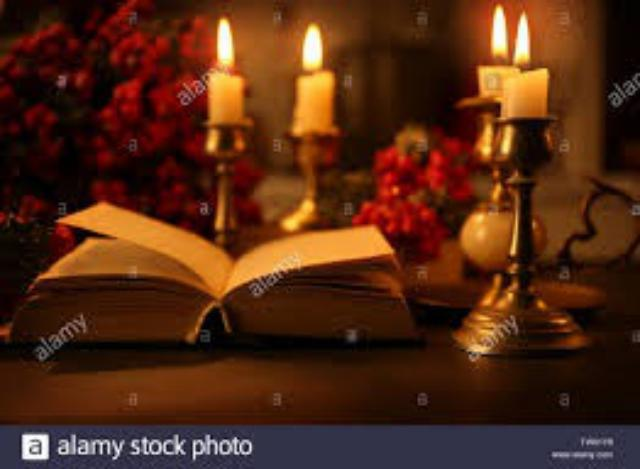fire: (292, 17, 332, 75), (478, 0, 508, 56), (504, 4, 534, 60), (207, 10, 231, 68)
